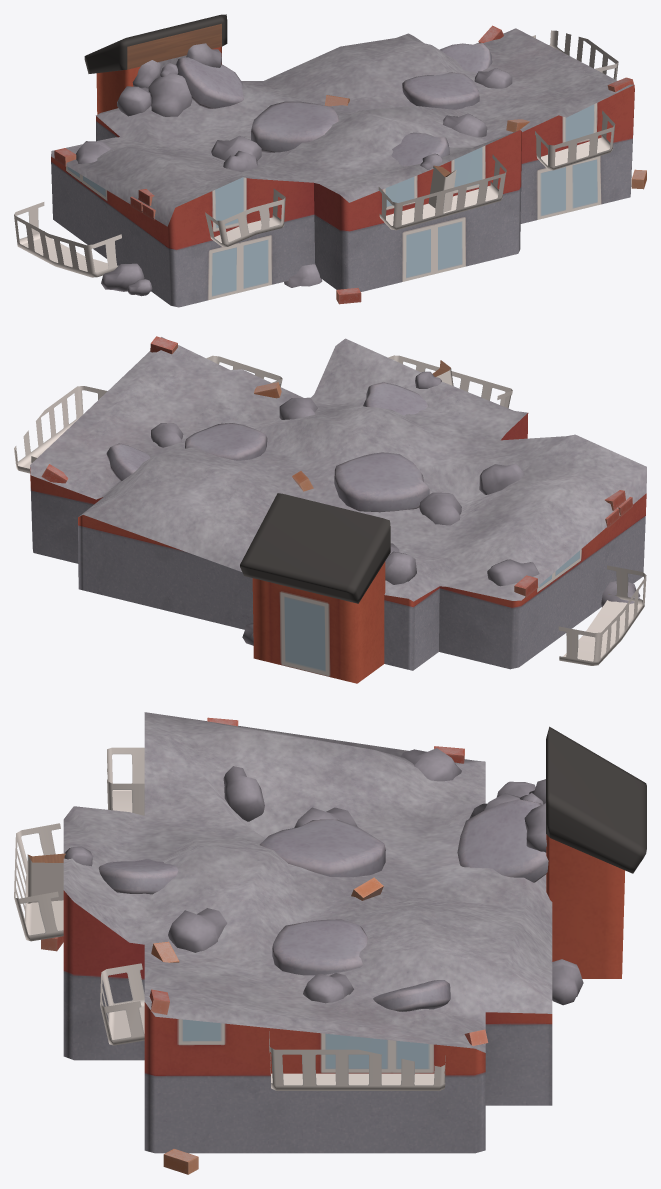
File: House_Q_Ruins.fbx
3 views of the same model, one above another, from view 1: azimuth 30°, elevation 25°; view 2: azimuth 150°, elevation 25°; view 3: azimuth 270°, elevation 25° (orthographic). The views are drawn at different scales.
Parts seen in each view (by area): view 1: House_Q_Ruins; view 2: House_Q_Ruins; view 3: House_Q_Ruins.
Boxes of the visible parts, box(x1,y1,x2,y2) form: House_Q_Ruins: box(14, 14, 646, 307); House_Q_Ruins: box(14, 336, 646, 683); House_Q_Ruins: box(14, 712, 646, 1174).
Size of what is drawn, in the model's own units: 866 by 218 by 635.
